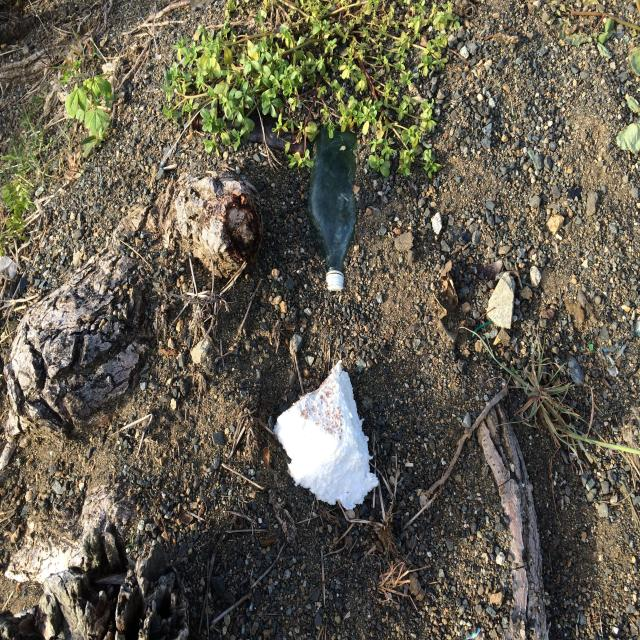litter: (274, 361, 378, 510), (308, 125, 358, 272), (326, 272, 344, 290)
